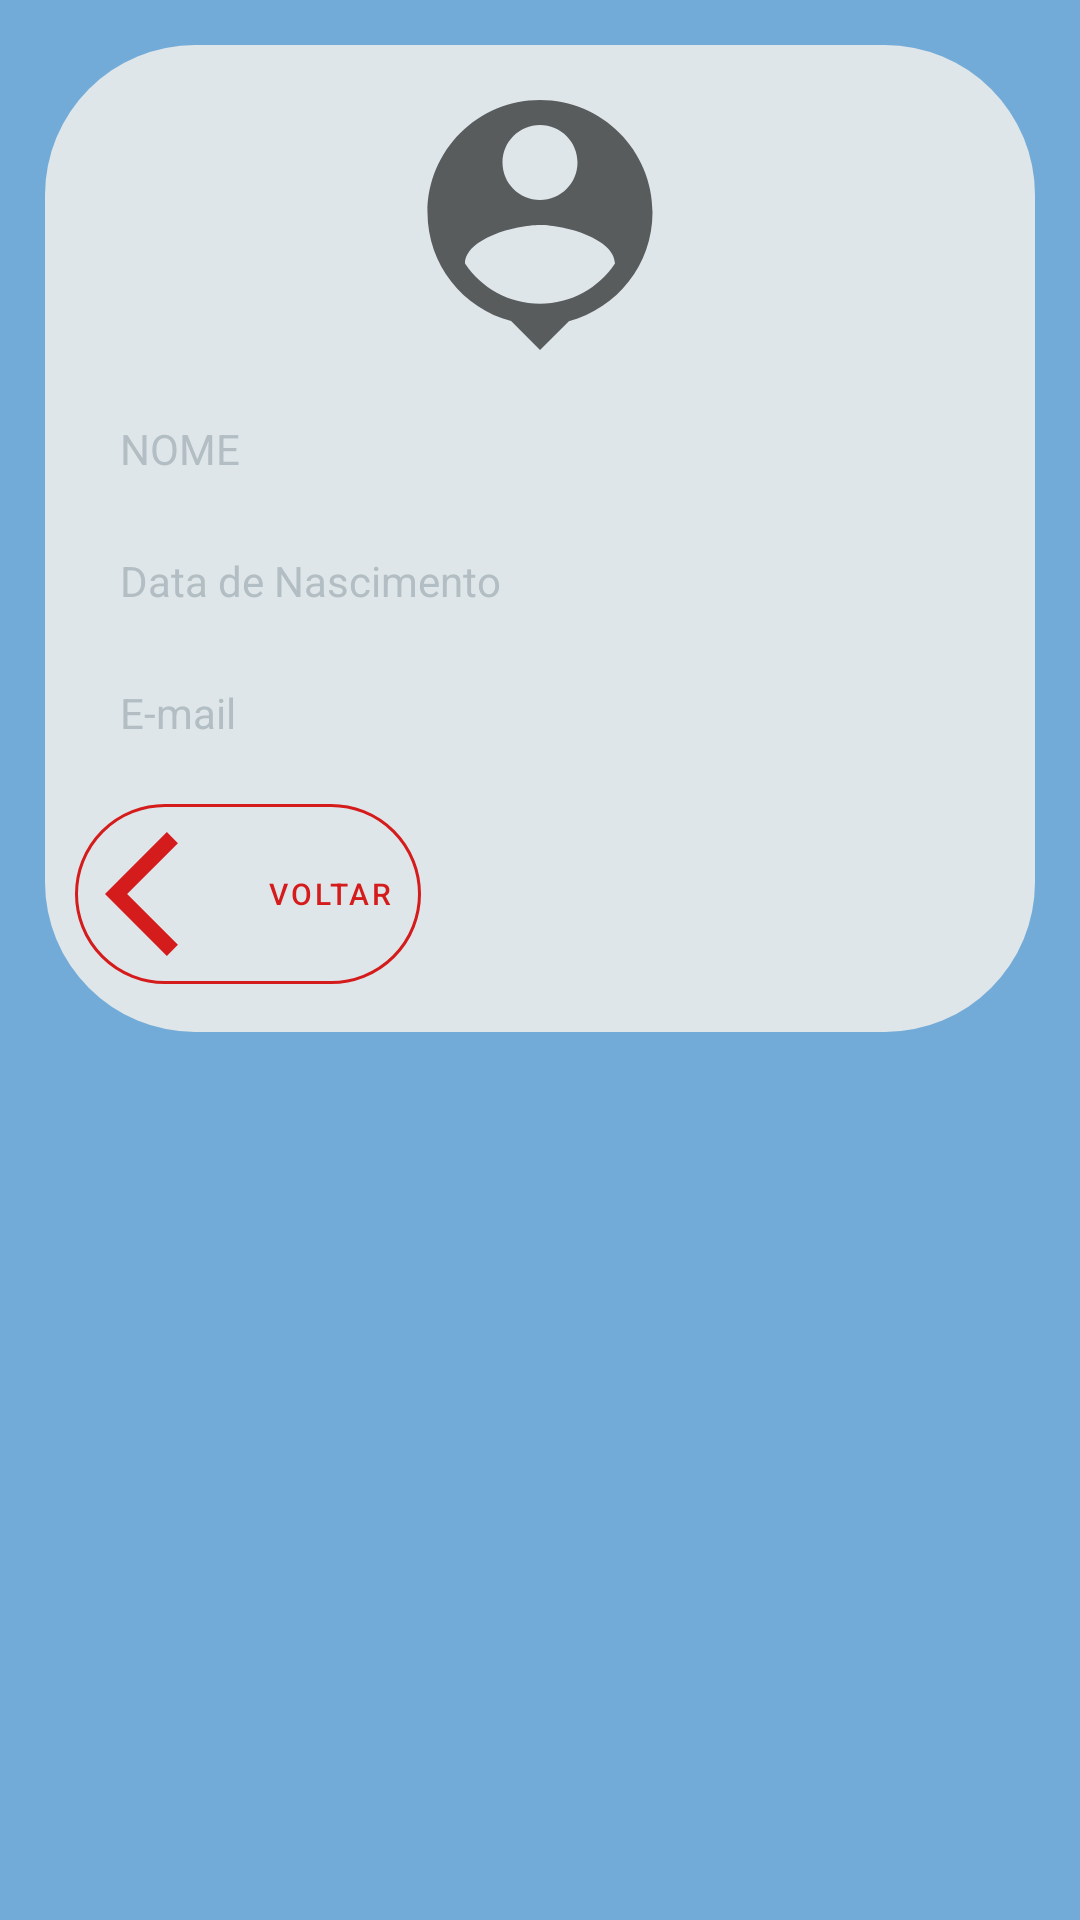

Locate icon controls on the screen. Image size 1080w x 1920h, boxes as (x1, y1, x2, y2).
person pin: (427, 100, 653, 350)
